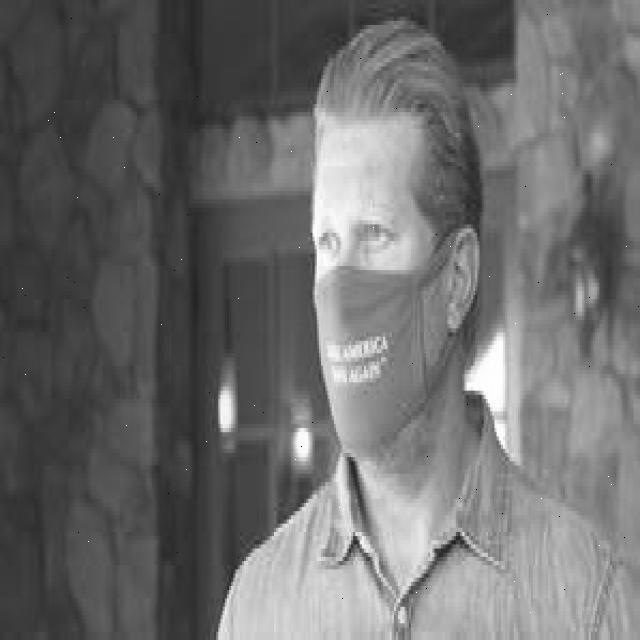fake: (306, 261, 443, 461)
real: (314, 113, 445, 464)
